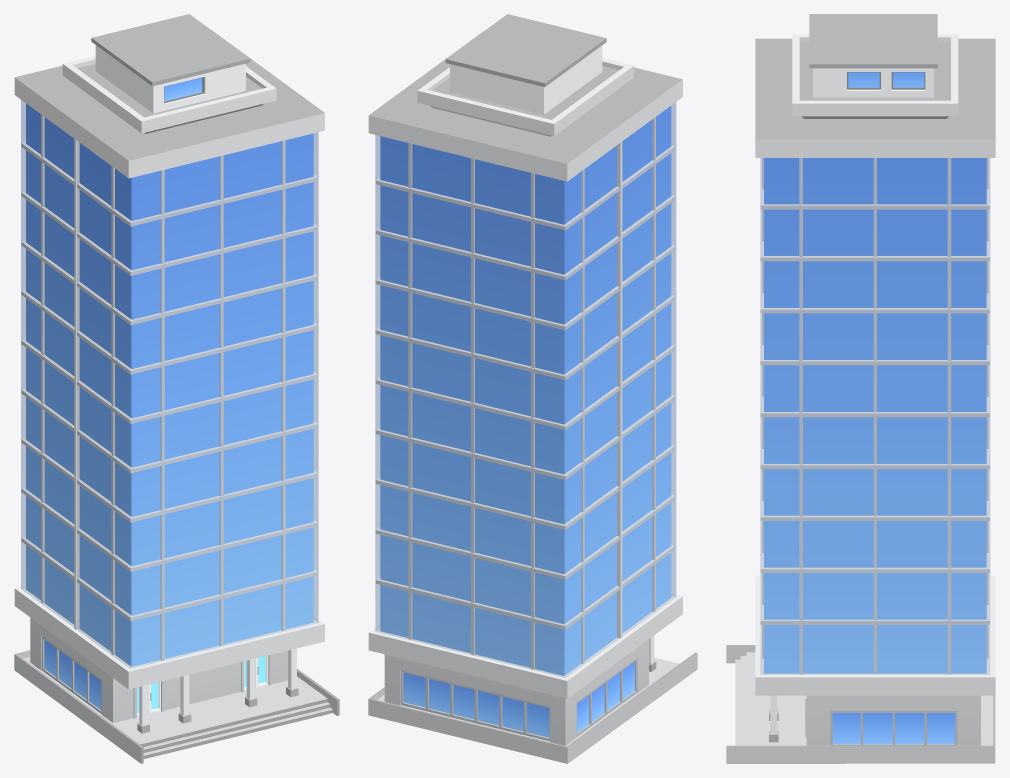
Rendered from city2-building-business-02.glb.
3 views of the same model, side by side, from view 1: azimuth 30°, elevation 25°; view 2: azimuth 150°, elevation 25°; view 3: azimuth 270°, elevation 25° (orthographic). The views are drawn at different scales.
Parts seen in each view (by area): view 1: Building_Business_02; view 2: Building_Business_02; view 3: Building_Business_02.
Boxes of the visible parts, x1=… form: Building_Business_02: x1=14, y1=14, x2=339, y2=763; Building_Business_02: x1=368, y1=14, x2=697, y2=763; Building_Business_02: x1=726, y1=14, x2=995, y2=763.
Size of the model in its own units: 13.21 by 40.74 by 14.74.
2 materials, 2 textured.
